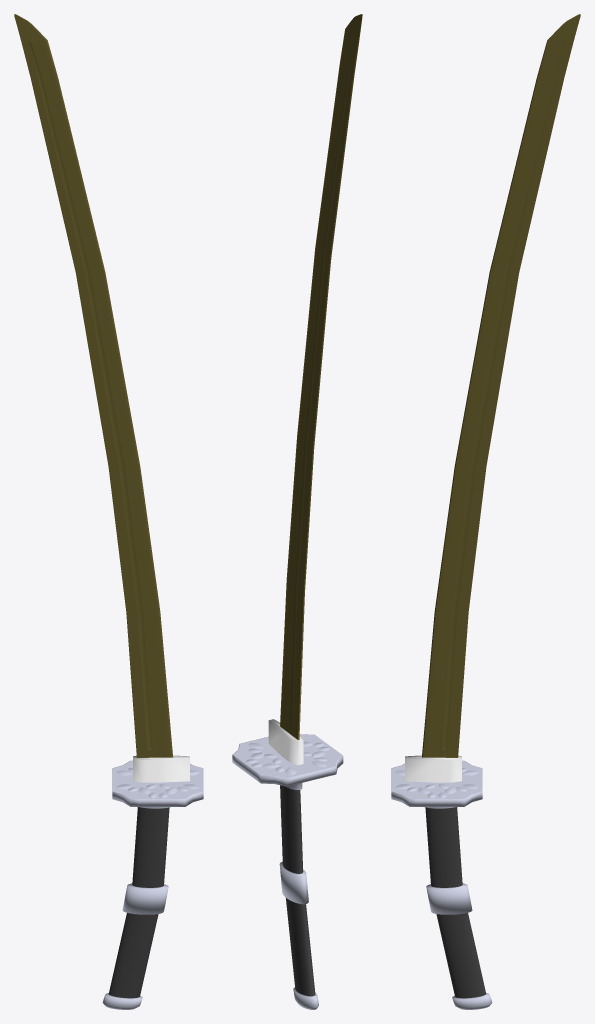
The model's file is KatanaCarbonfibrehandle.fbx.
The picture shows the model from 3 angles, left to right: view 1: azimuth 90°, elevation 25°; view 2: azimuth 210°, elevation 25°; view 3: azimuth 270°, elevation 25°; orthographic projection. The views are drawn at different scales.
Visible parts, largest first — view 1: KatanaMesh; view 2: KatanaMesh; view 3: KatanaMesh.
Boxes of the visible parts, x1,y1,x2,y2 form: KatanaMesh: (14, 14, 203, 1009); KatanaMesh: (232, 14, 362, 1009); KatanaMesh: (391, 14, 580, 1009).
Size of the model in its own units: 4.33 by 51.94 by 8.97.
